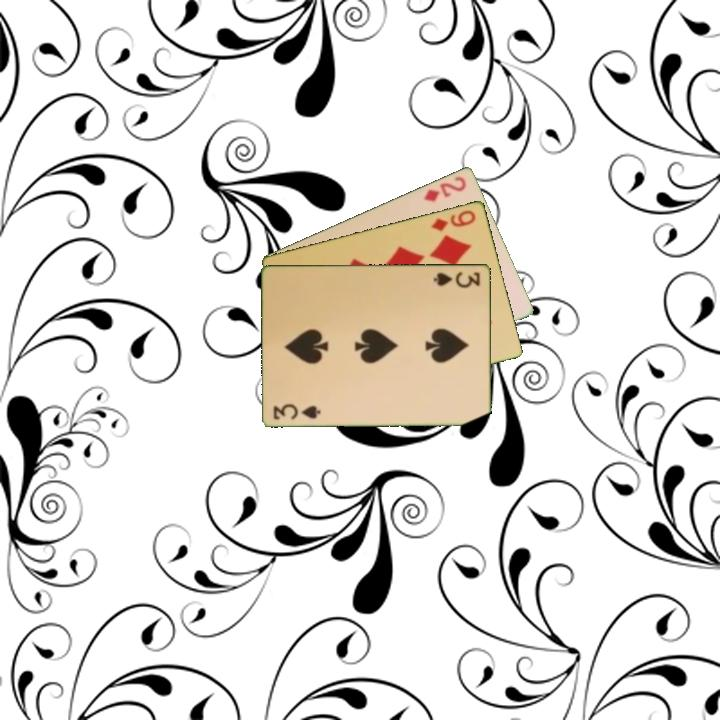2d: (420, 172, 469, 204)
3s: (430, 268, 483, 290), (270, 400, 323, 422)
9d: (427, 206, 479, 234)
